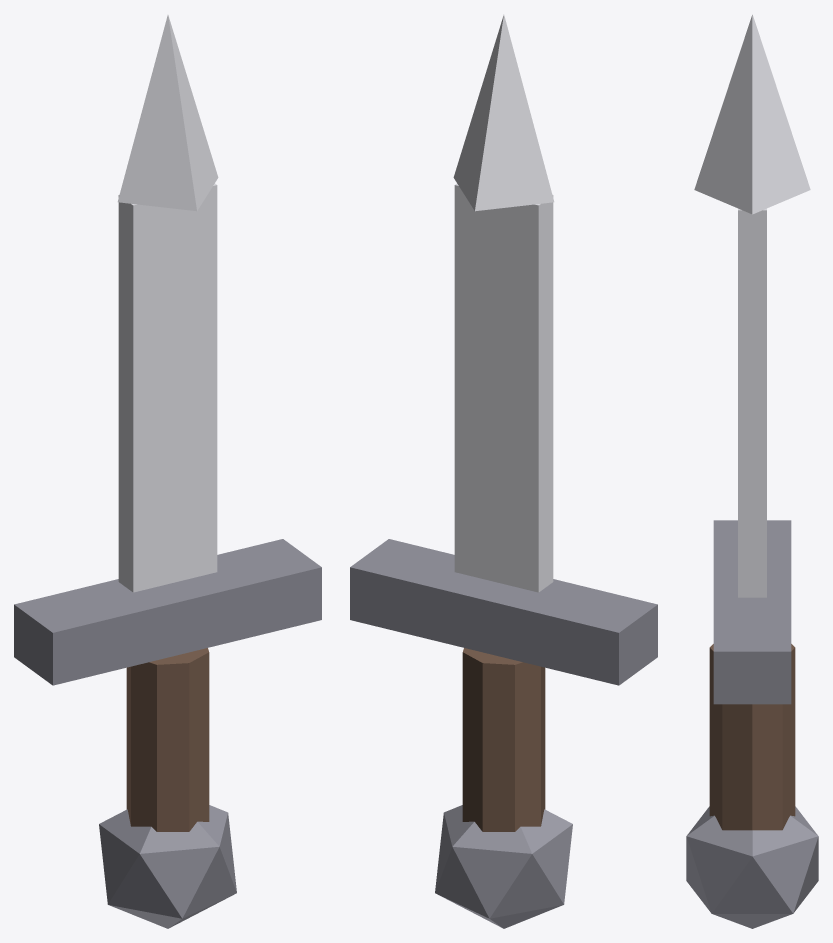
The model's file is wpn_dagger.glb.
3 views of the same model, side by side, from view 1: azimuth 30°, elevation 25°; view 2: azimuth 150°, elevation 25°; view 3: azimuth 270°, elevation 25° (orthographic).
Visible parts, largest first — view 1: Weapon_Dagger; view 2: Weapon_Dagger; view 3: Weapon_Dagger.
Part boxes in pixels (<box>): Weapon_Dagger: <box>14,15,321,928</box>; Weapon_Dagger: <box>350,15,657,928</box>; Weapon_Dagger: <box>686,14,818,928</box>.
Size of the model in its own units: 0.16 by 0.52 by 0.0681.
